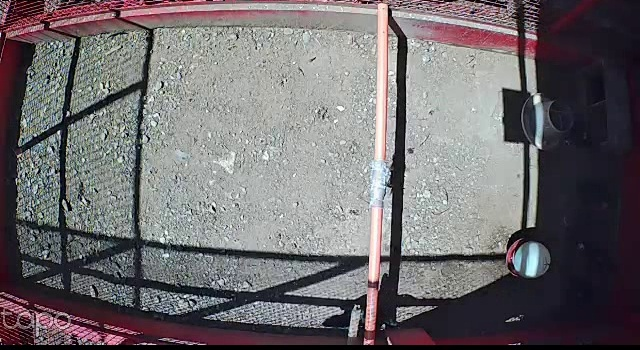Drinker: (503, 237, 552, 278)
Feeder: (519, 89, 577, 151)
